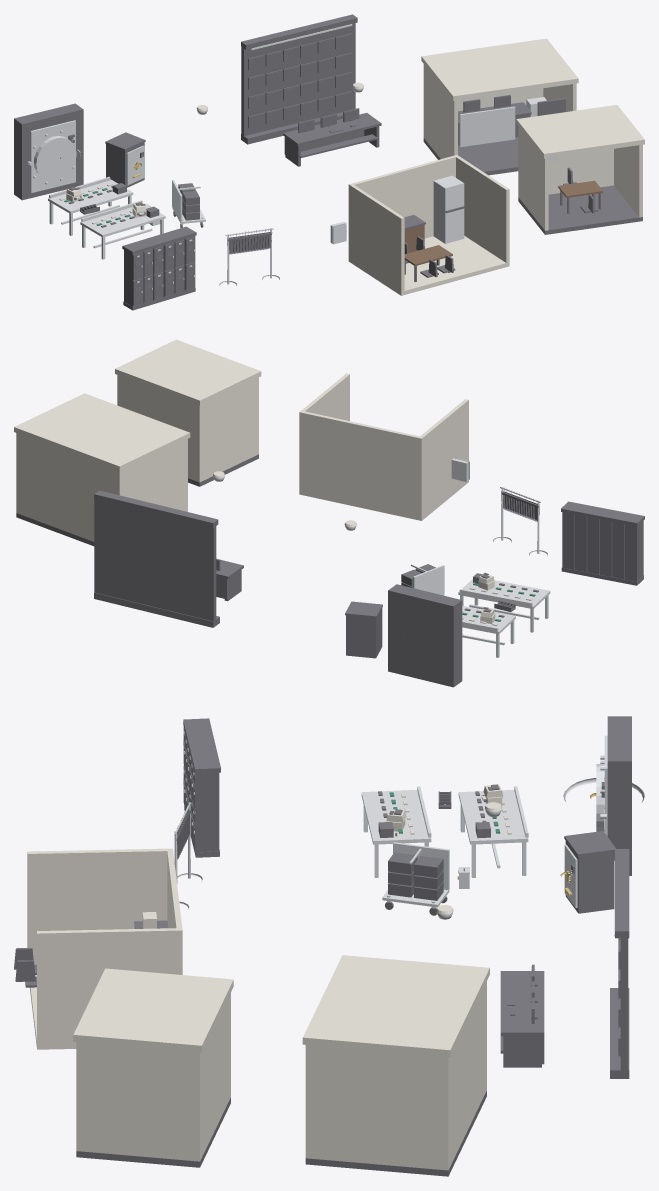
Rendered from casino-floor-and-back-rooms-back-of-house-583de20f__27079.glb.
3 views of the same model, one above another, from view 1: azimuth 30°, elevation 25°; view 2: azimuth 150°, elevation 25°; view 3: azimuth 270°, elevation 25° (orthographic). The views are drawn at different scales.
Visible parts, largest first — view 1: 018-break-room/0, 014-interview-office/1, 013-security-office/1, 009-monitor-wall/0, 009-monitor-wall/2, 015-locker-bank/1, 014-interview-office/0, 006-vault-door-small/0, 006-vault-door-small/1, 010-surveillance-desk/0, 013-security-office/0, 009-monitor-wall/1 (+15 smaller); view 2: 013-security-office/1, 018-break-room/0, 009-monitor-wall/0, 014-interview-office/1, 006-vault-door-small/0, 015-locker-bank/1, 007-safe/0, 001-count-room-table/0, 015-locker-bank/0, 000-count-room-table/0, 010-surveillance-desk/0, 008-vault-trolley/0 (+1 smaller); view 3: 013-security-office/1, 014-interview-office/1, 018-break-room/0, 010-surveillance-desk/0, 009-monitor-wall/0, 006-vault-door-small/0, 007-safe/0, 000-count-room-table/0, 001-count-room-table/0, 015-locker-bank/1, 008-vault-trolley/2, 015-locker-bank/0 (+5 smaller).
Part boxes in pixels (x1,y1,x2,y2): 018-break-room/0: [348, 155, 509, 295]; 014-interview-office/1: [516, 105, 644, 230]; 013-security-office/1: [421, 38, 578, 158]; 009-monitor-wall/0: [241, 14, 357, 144]; 009-monitor-wall/2: [250, 35, 351, 127]; 015-locker-bank/1: [124, 236, 195, 306]; 014-interview-office/0: [518, 167, 642, 234]; 006-vault-door-small/0: [14, 103, 83, 200]; 006-vault-door-small/1: [27, 120, 80, 192]; 010-surveillance-desk/0: [283, 113, 381, 166]; 013-security-office/0: [423, 98, 565, 175]; 009-monitor-wall/1: [248, 33, 351, 128]; 013-security-office/1: [14, 393, 190, 541]; 018-break-room/0: [299, 373, 468, 520]; 009-monitor-wall/0: [94, 490, 219, 627]; 014-interview-office/1: [115, 339, 261, 482]; 006-vault-door-small/0: [388, 584, 462, 687]; 015-locker-bank/1: [562, 512, 643, 581]; 007-safe/0: [345, 601, 382, 658]; 001-count-room-table/0: [458, 579, 550, 632]; 015-locker-bank/0: [561, 501, 644, 585]; 000-count-room-table/0: [462, 606, 515, 657]; 010-surveillance-desk/0: [216, 558, 243, 601]; 008-vault-trolley/0: [411, 564, 444, 595]; 013-security-office/1: [302, 955, 489, 1170]; 014-interview-office/1: [73, 968, 233, 1161]; 018-break-room/0: [27, 848, 182, 1049]; 010-surveillance-desk/0: [500, 971, 544, 1067]; 009-monitor-wall/0: [610, 849, 629, 1078]; 006-vault-door-small/0: [607, 716, 631, 875]; 007-safe/0: [564, 831, 616, 913]; 000-count-room-table/0: [458, 786, 528, 877]; 001-count-room-table/0: [361, 786, 431, 877]; 015-locker-bank/1: [183, 727, 219, 852]; 008-vault-trolley/2: [388, 852, 443, 900]; 015-locker-bank/0: [183, 718, 220, 857].
Size of the model in its own units: 18.06 by 3.36 by 12.99.
